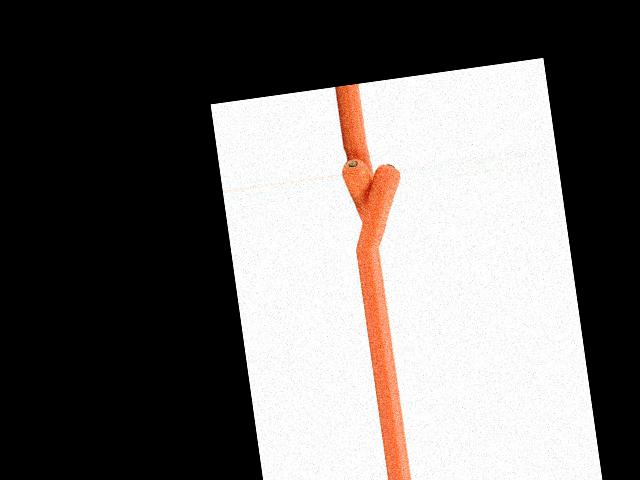carrot: (341, 153, 377, 227)
